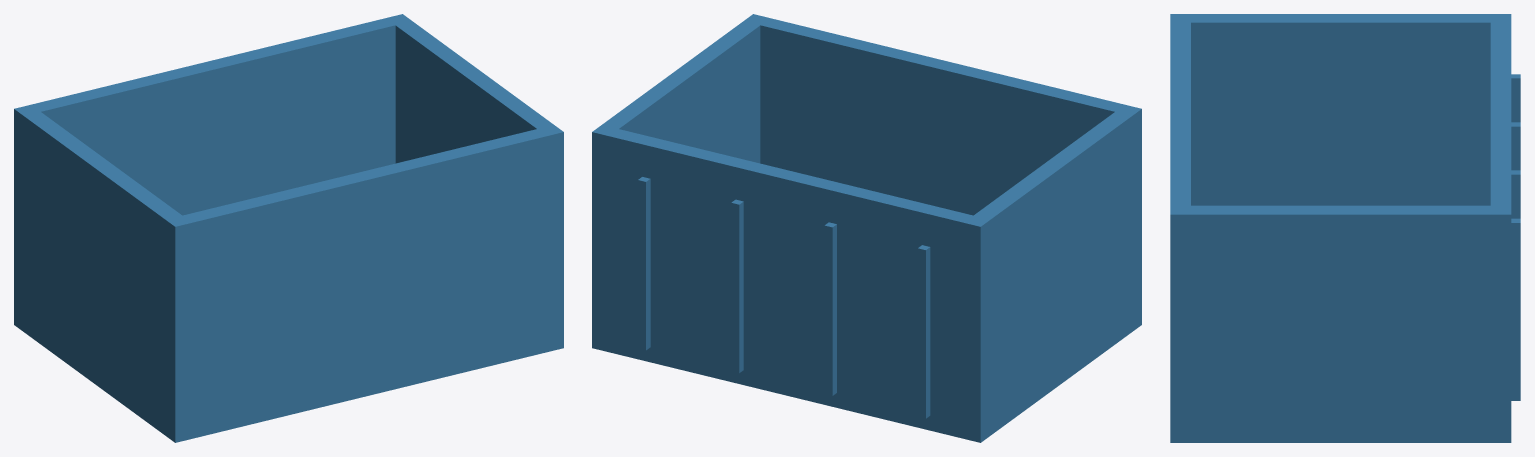
The model's file is bin.glb.
3 renders of one model, left to right at view 1: azimuth 30°, elevation 25°; view 2: azimuth 150°, elevation 25°; view 3: azimuth 270°, elevation 25°, orthographic. The views are drawn at different scales.
Visible parts, largest first — view 1: ForgeCore item; view 2: ForgeCore item; view 3: ForgeCore item.
Boxes of the visible parts, x1,y1,x2,y2 form: ForgeCore item: [14, 14, 563, 442]; ForgeCore item: [592, 14, 1141, 442]; ForgeCore item: [1170, 14, 1520, 442].
Size of the model in its own units: 0.64 by 0.34 by 0.4726.
